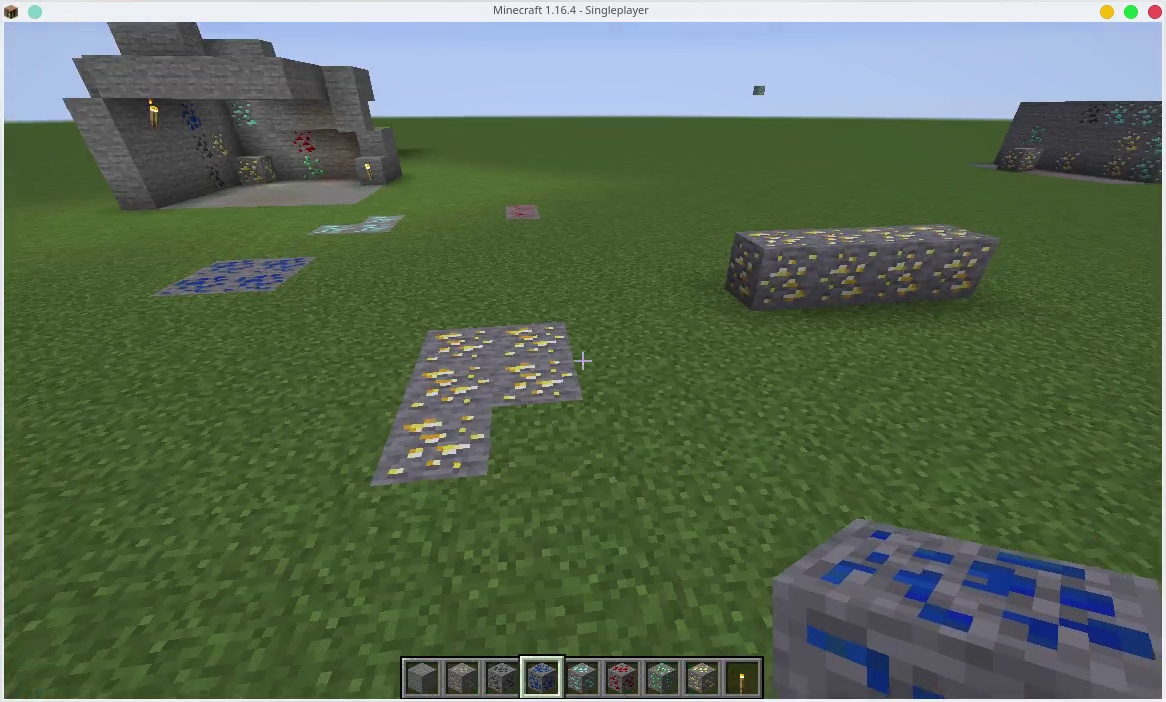gold: (393, 411, 485, 470), (746, 231, 809, 304), (411, 361, 496, 411), (938, 217, 983, 303), (819, 228, 874, 298), (881, 229, 935, 295), (504, 355, 578, 401), (421, 325, 496, 362), (502, 326, 580, 354), (238, 151, 274, 184), (686, 661, 717, 692), (209, 130, 235, 161), (1096, 156, 1131, 176), (1003, 149, 1037, 169), (1053, 151, 1082, 170), (1119, 131, 1143, 150)
